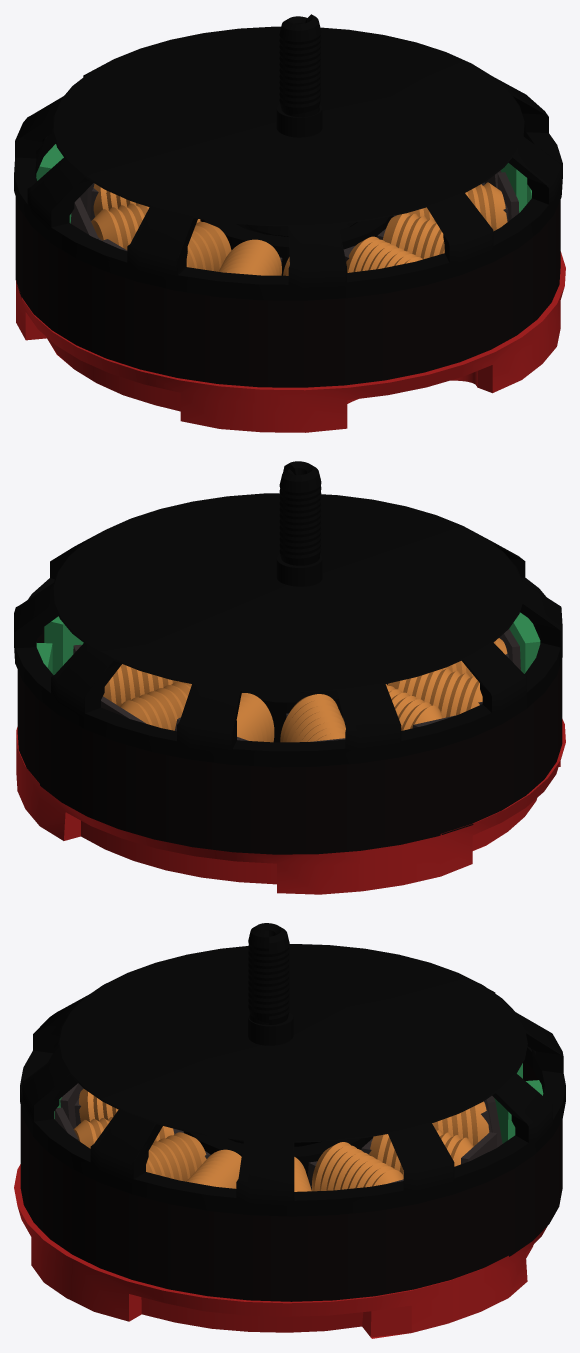
File: motor2205.fbx
The picture shows the model from 3 angles, top to bottom: view 1: azimuth 30°, elevation 25°; view 2: azimuth 150°, elevation 25°; view 3: azimuth 270°, elevation 25°; orthographic projection.
Parts seen in each view (by area): view 1: pCylinder92, pCylinder93, pCylinder94, pCylinder90, pCylinder95, pHelix26, pHelix37, pHelix30, pHelix35, pHelix29, pHelix33, pCube70 (+3 smaller); view 2: pCylinder92, pCylinder93, pCylinder94, pCylinder90, pHelix30, pHelix36, pHelix32, pHelix31, pHelix28, pCylinder95, pHelix35, pCube83 (+1 smaller); view 3: pCylinder92, pCylinder93, pCylinder94, pCylinder90, pHelix31, pHelix26, pCylinder95, pHelix33, pHelix32, pHelix28, pHelix29, pHelix27 (+3 smaller).
Boxes of the visible parts, x1,y1,x2,y2 form: pCylinder92: (14, 26, 562, 300); pCylinder93: (15, 143, 560, 387); pCylinder94: (16, 251, 565, 432); pCylinder90: (276, 14, 322, 137); pCylinder95: (200, 216, 393, 275); pHelix26: (382, 212, 444, 259); pHelix37: (218, 239, 281, 275); pHelix30: (186, 221, 231, 271); pHelix35: (91, 203, 200, 249); pHelix29: (346, 236, 422, 272); pHelix33: (409, 182, 507, 231); pCube70: (393, 172, 519, 221); pCylinder92: (14, 493, 562, 767); pCylinder93: (17, 627, 562, 854); pCylinder94: (16, 719, 565, 894); pCylinder90: (276, 461, 322, 586); pHelix30: (388, 668, 482, 717); pHelix36: (280, 694, 345, 742); pHelix32: (120, 681, 191, 730); pHelix31: (103, 664, 179, 706); pHelix28: (236, 693, 274, 742); pCylinder95: (242, 683, 387, 742); pHelix35: (343, 684, 442, 730); pCube83: (44, 616, 83, 674); pCylinder92: (20, 944, 565, 1216); pCylinder93: (20, 1060, 562, 1301); pCylinder94: (14, 1164, 547, 1338); pCylinder90: (248, 923, 293, 1045); pHelix31: (311, 1142, 403, 1191); pHelix26: (146, 1132, 206, 1181); pCylinder95: (183, 1131, 373, 1176); pHelix33: (186, 1149, 241, 1188); pHelix32: (369, 1130, 473, 1175); pHelix28: (432, 1101, 489, 1146); pHelix29: (73, 1117, 174, 1148); pHelix27: (79, 1088, 118, 1122).
Size of the model in its own units: 3.35 by 2.2 by 3.38.
